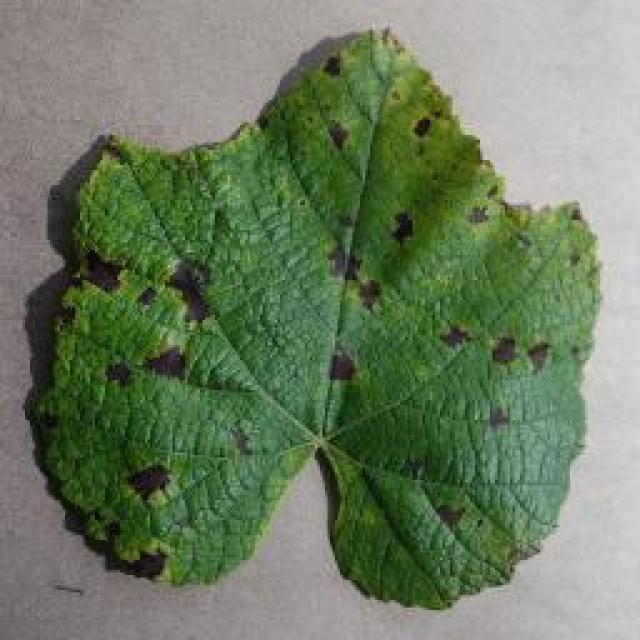Blight Fungus: (44, 21, 611, 611)
